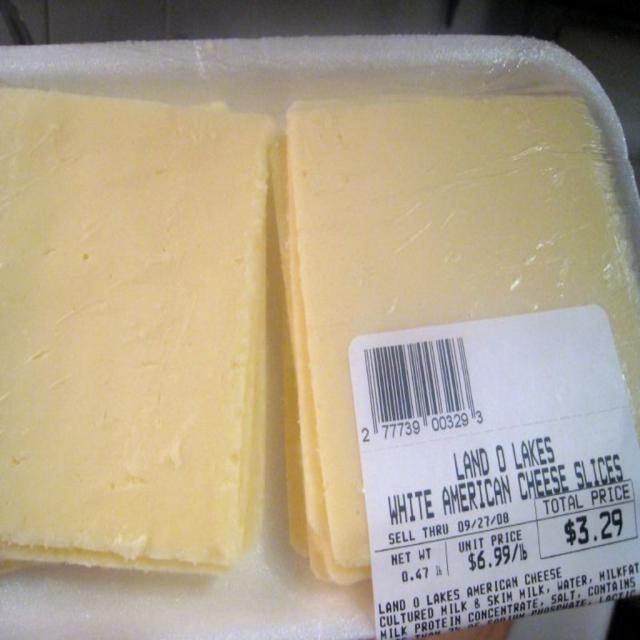Cheese: (273, 96, 639, 584), (0, 81, 278, 575)
